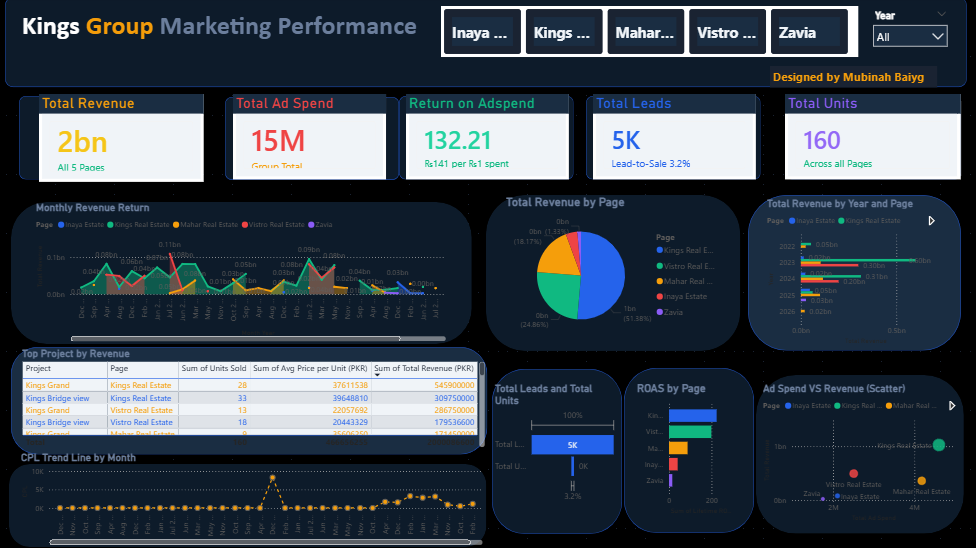

What the dashboard file says about the page in this screenshot:
{"tool":"powerbi","page":{"name":"Marketing PerformanceDashboard","canvas":[1600,900],"ordinal":0},"visuals":[{"type":"shape","box":[1021.7,603.3,211.7,268.3],"z":0},{"type":"shape","box":[1223.3,321.7,346.7,253.3],"z":1000},{"type":"shape","box":[806.7,605,211.7,268.3],"z":2000},{"type":"shape","box":[25,570,775,175],"z":3000},{"type":"shape","box":[1236.7,615,338.3,258.3],"z":4000},{"type":"shape","box":[21.7,760,776.7,135],"z":5000},{"type":"shape","box":[15,0,1565,146.7],"z":6000},{"type":"textbox","box":[38,14.5,697.4,63.4],"z":7000},{"type":"card","fields":{"Values":["02_Monthly.Total Units"]},"box":[1316.8,168.5,253.6,121.4],"z":8000},{"type":"shape","box":[38,161.2,286.2,135.8],"z":9000},{"type":"shape","box":[372.6,162.3,283.4,134.9],"z":10000},{"type":"shape","box":[655.7,161.2,284.4,135.8],"z":11000},{"type":"shape","box":[960,161.2,284.4,135.8],"z":12000},{"type":"shape","box":[1285.2,161.2,284.9,136.3],"z":13000},{"type":"cardVisual","title":"Total Revenue","fields":{"Data":["02_Monthly.Total Revenue"]},"box":[70.6,157.6,268.1,143.1],"z":14000},{"type":"cardVisual","title":"Total Ad Spend","fields":{"Data":["02_Monthly.Total Ad Spend"]},"box":[386.3,157.7,249.1,139.4],"z":15000},{"type":"cardVisual","title":"Return on Adspend","fields":{"Data":["02_Monthly.ROAS."]},"box":[667.4,157.7,265.1,139.4],"z":16000},{"type":"cardVisual","title":"Total Units","fields":{"Data":["02_Monthly.Total Units"]},"box":[1284.6,157.7,285.7,139.4],"z":17000},{"type":"cardVisual","title":"Total Leads","fields":{"Data":["02_Monthly.Total Leads"]},"box":[971.4,157.7,265.1,139.4],"z":18000},{"type":"advancedSlicerVisual","fields":{"Values":["02_Monthly.Page"]},"box":[724.5,14.5,679.2,83.3],"z":19000},{"type":"shape","box":[25.1,333.7,749.7,230.9],"z":20000},{"type":"areaChart","title":"Monthly Revenue Return","fields":{"Category":["02_Monthly.Month Year"],"Y":["02_Monthly.Total Revenue"],"Series":["02_Monthly.Page"]},"box":[59.4,331.4,676.6,233.1],"z":21000},{"type":"shape","box":[797.7,322.3,413.7,253.7],"z":22000},{"type":"pieChart","fields":{"Category":["03_Page_Summary.Page"],"Y":["02_Monthly.Total Revenue"]},"box":[825.1,322.3,358.9,240],"z":23000},{"type":"scatterChart","title":"Ad Spend VS Revenue (Scatter)","fields":{"X":["02_Monthly.Total Ad Spend"],"Y":["02_Monthly.Total Revenue"],"Size":["02_Monthly.Total Units"],"Series":["02_Monthly.Page"]},"box":[1243.3,626.7,331.7,231.7],"z":24000},{"type":"tableEx","title":"Top Project by Revenue","fields":{"Values":["05_Project_Performance.Project","05_Project_Performance.Page","Sum(05_Project_Performance.Units Sold)","Sum(05_Project_Performance.Avg Price per Unit (PKR))","Sum(05_Project_Performance.Total Revenue (PKR))"]},"box":[36.7,570,763.3,168.3],"z":25000},{"type":"clusteredBarChart","fields":{"Y":["02_Monthly.Total Revenue"],"Category":["02_Monthly.Year"],"Series":["02_Monthly.Page"]},"box":[1250,325,291.7,245],"z":26000},{"type":"funnel","fields":{"Y":["02_Monthly.Total Leads","02_Monthly.Total Units"]},"box":[806.9,626.3,208,201.1],"z":27000},{"type":"slicer","fields":{"Values":["02_Monthly.Year"]},"box":[1416.5,14.5,152.2,83.3],"z":28000},{"type":"clusteredBarChart","title":"ROAS by Page","fields":{"Category":["03_Page_Summary.Page"],"Y":["Sum(03_Page_Summary.Lifetime ROAS)"]},"box":[1037.7,626.3,176,219.4],"z":29000},{"type":"lineChart","title":"CPL Trend Line by Month","fields":{"Category":["02_Monthly.Month Year"],"Y":["02_Monthly.CPL"]},"box":[36.6,738.3,761.1,157.7],"z":30000},{"type":"textbox","box":[1260,111.7,271.7,35],"z":31000}]}

Visuals, with their boxes in screenshot pixels (x1, y1, x2, y2), scaled from the page's 1600x900 canvas onto the 976x548 screenshot:
shape: [623, 367, 752, 531]
shape: [746, 196, 958, 350]
shape: [492, 368, 621, 532]
shape: [15, 347, 488, 454]
shape: [754, 374, 961, 532]
shape: [13, 463, 487, 545]
shape: [9, 0, 964, 89]
textbox: [23, 9, 449, 47]
card - 02_Monthly.Total Units: [803, 103, 958, 177]
shape: [23, 98, 198, 181]
shape: [227, 99, 400, 181]
shape: [400, 98, 573, 181]
shape: [586, 98, 759, 181]
shape: [784, 98, 958, 181]
"Total Revenue" cardVisual: [43, 96, 207, 183]
"Total Ad Spend" cardVisual: [236, 96, 388, 181]
"Return on Adspend" cardVisual: [407, 96, 569, 181]
"Total Units" cardVisual: [784, 96, 958, 181]
"Total Leads" cardVisual: [593, 96, 754, 181]
advancedSlicerVisual - 02_Monthly.Page: [442, 9, 856, 60]
shape: [15, 203, 473, 344]
"Monthly Revenue Return" areaChart: [36, 202, 449, 344]
shape: [487, 196, 739, 351]
pieChart - 03_Page_Summary.Page x 02_Monthly.Total Revenue: [503, 196, 722, 342]
"Ad Spend VS Revenue (Scatter)" scatterChart: [758, 382, 961, 523]
"Top Project by Revenue" tableEx: [22, 347, 488, 450]
clusteredBarChart - 02_Monthly.Total Revenue x 02_Monthly.Year: [762, 198, 940, 347]
funnel - 02_Monthly.Total Leads x 02_Monthly.Total Units: [492, 381, 619, 504]
slicer - 02_Monthly.Year: [864, 9, 957, 60]
"ROAS by Page" clusteredBarChart: [633, 381, 740, 515]
"CPL Trend Line by Month" lineChart: [22, 450, 487, 546]
textbox: [769, 68, 934, 89]
